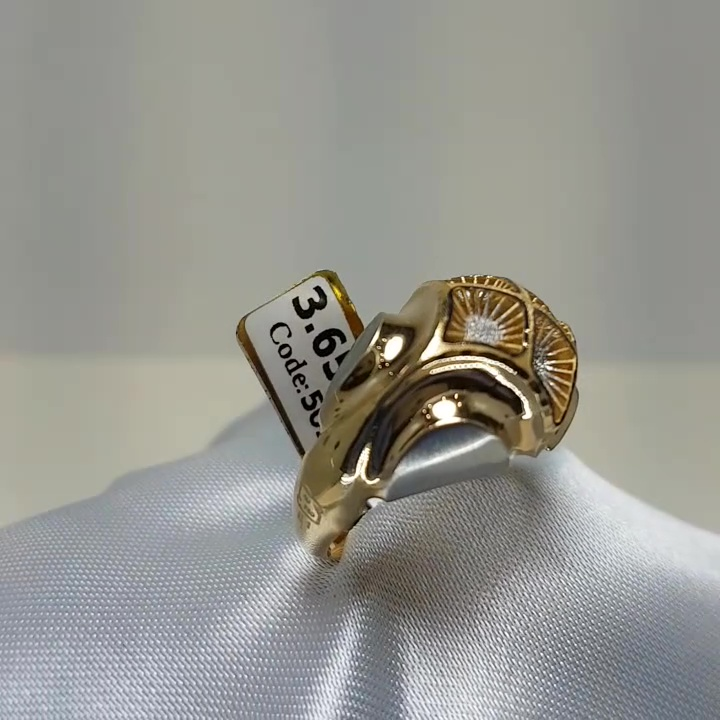Ring 2: (258, 254, 611, 579)
